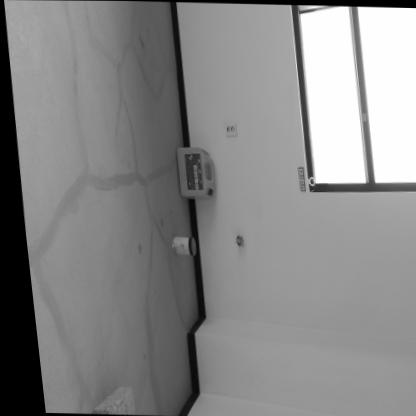DDL: (171, 144, 213, 198)
